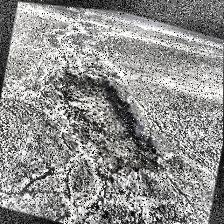pothole: (37, 61, 180, 186)
